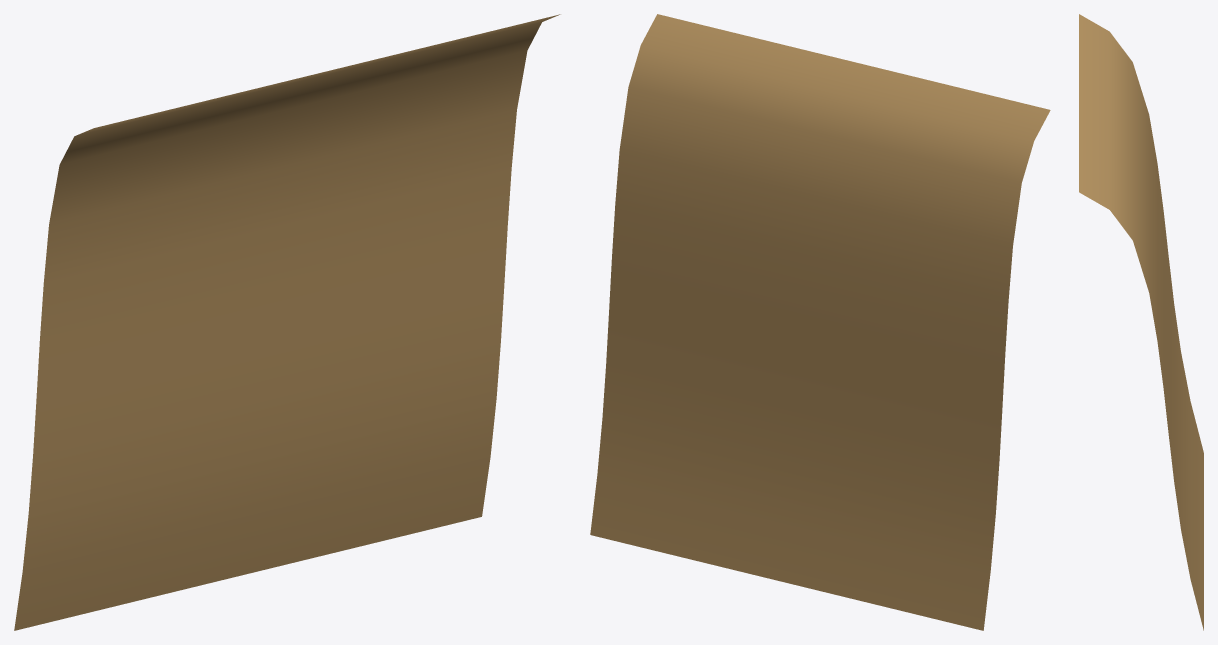
File: PaperTowel.glb
3 views of the same model, side by side, from view 1: azimuth 30°, elevation 25°; view 2: azimuth 150°, elevation 25°; view 3: azimuth 270°, elevation 25° (orthographic). The views are drawn at different scales.
Parts seen in each view (by area): view 1: PAPER TOWEL.002; view 2: PAPER TOWEL.002; view 3: PAPER TOWEL.002.
Part boxes in pixels (bbox=[...]): PAPER TOWEL.002: bbox=[14, 14, 560, 630]; PAPER TOWEL.002: bbox=[590, 14, 1050, 630]; PAPER TOWEL.002: bbox=[1079, 14, 1203, 630].
Bounding box in the file's own units: 0.8244 × 0.9449 × 0.2435.
